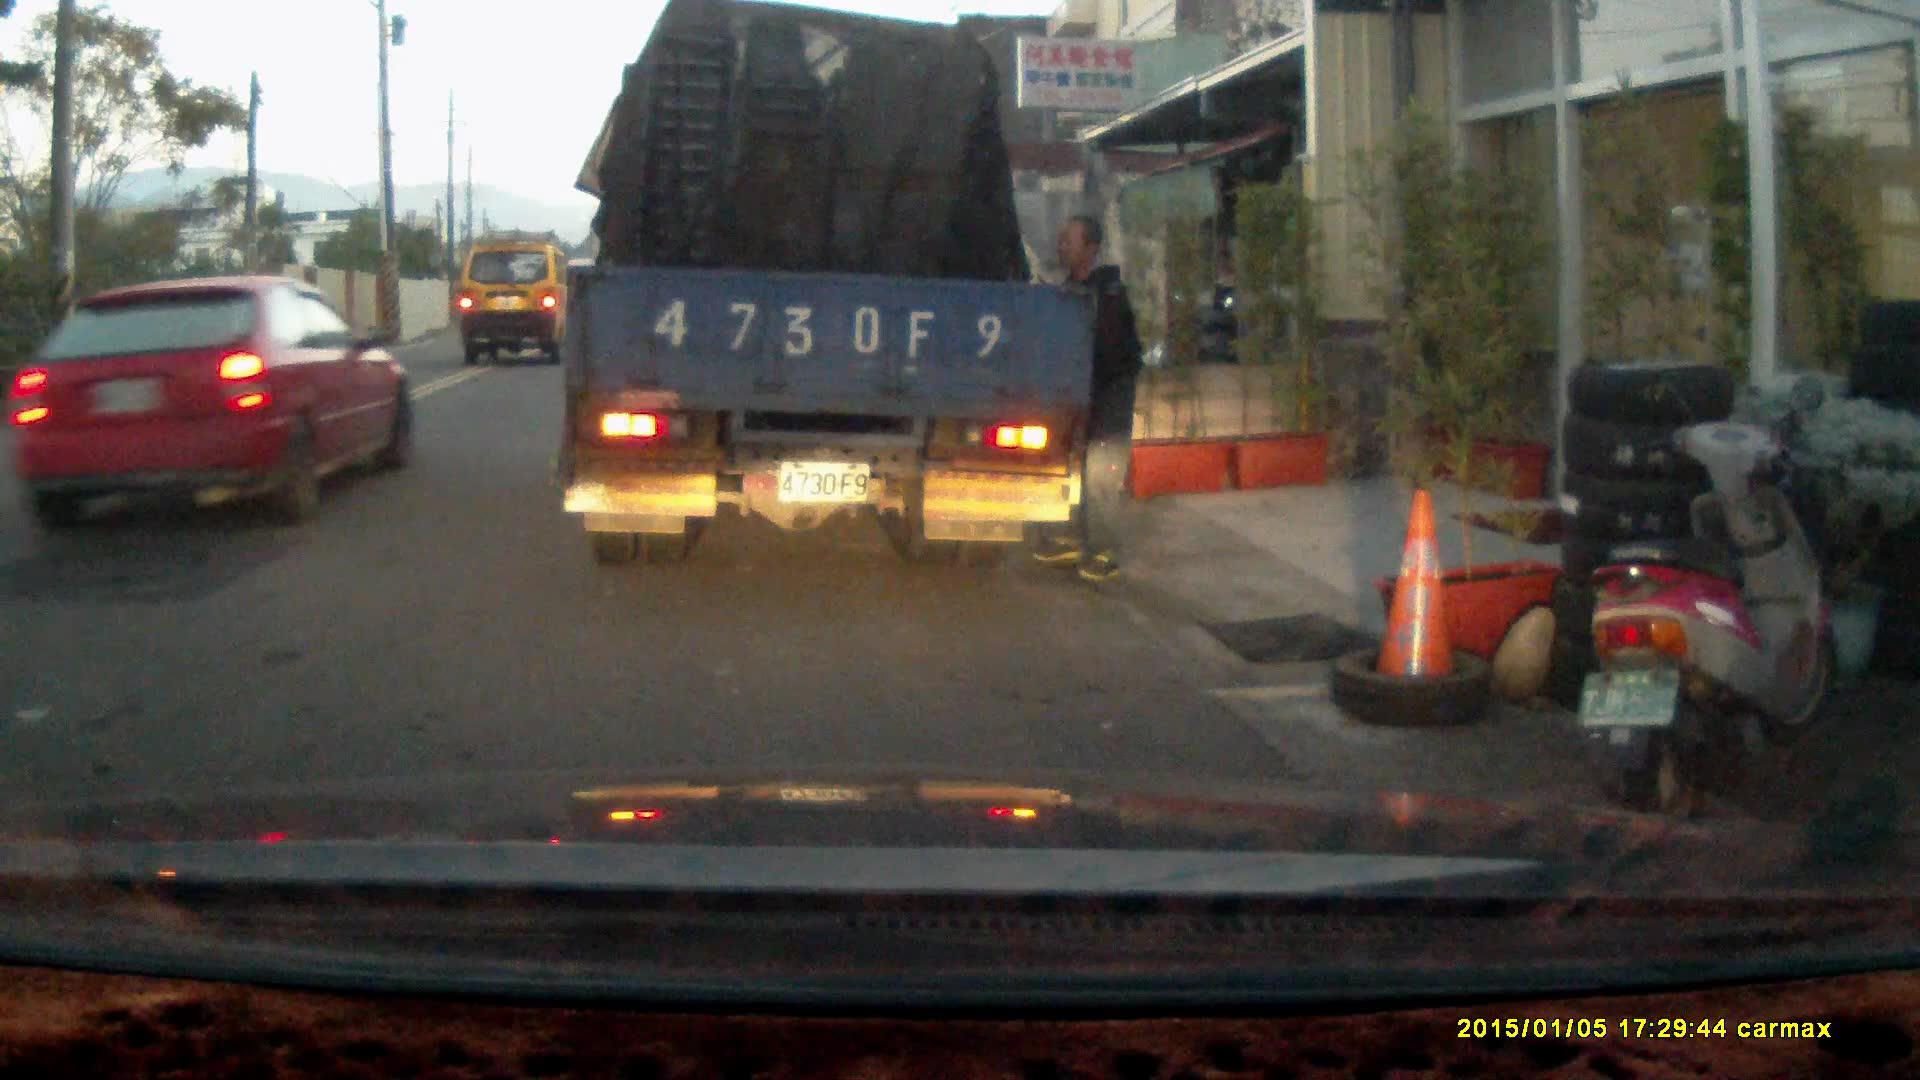pedestrian: (1031, 213, 1142, 582)
vehicle: (565, 23, 1097, 570), (11, 276, 409, 542), (457, 239, 577, 359)
